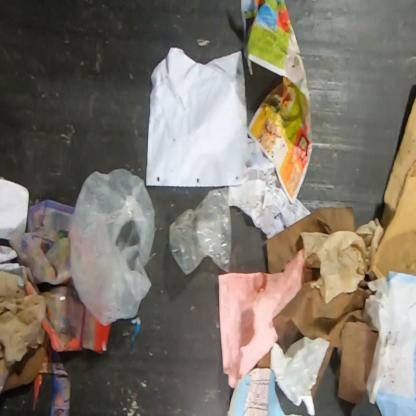cardboard: (368, 97, 415, 281), (337, 320, 379, 405), (0, 330, 50, 394)
soft_plastic: (68, 167, 156, 327), (168, 186, 233, 276)
